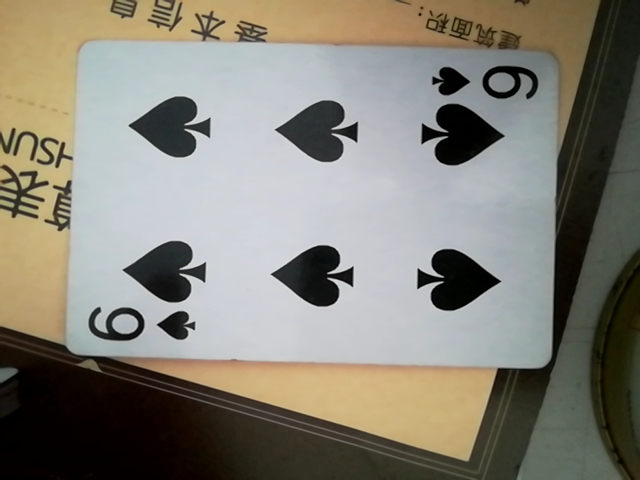ht 6: (57, 41, 560, 375)
